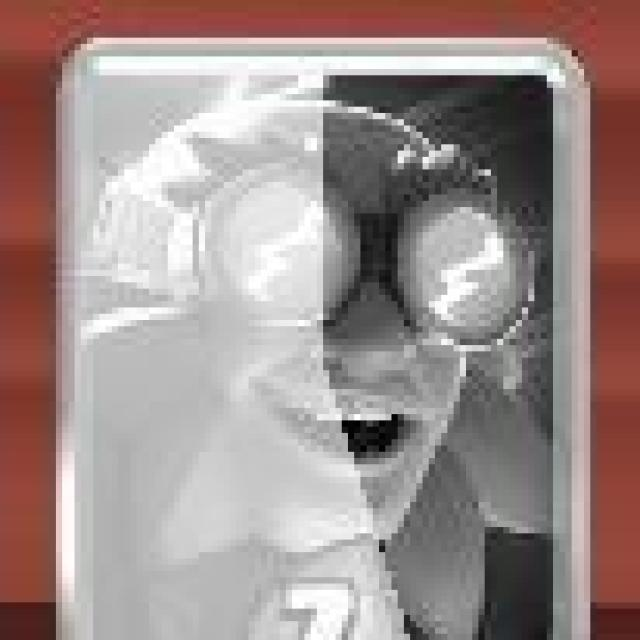Electro_Giant: (49, 36, 590, 640)
